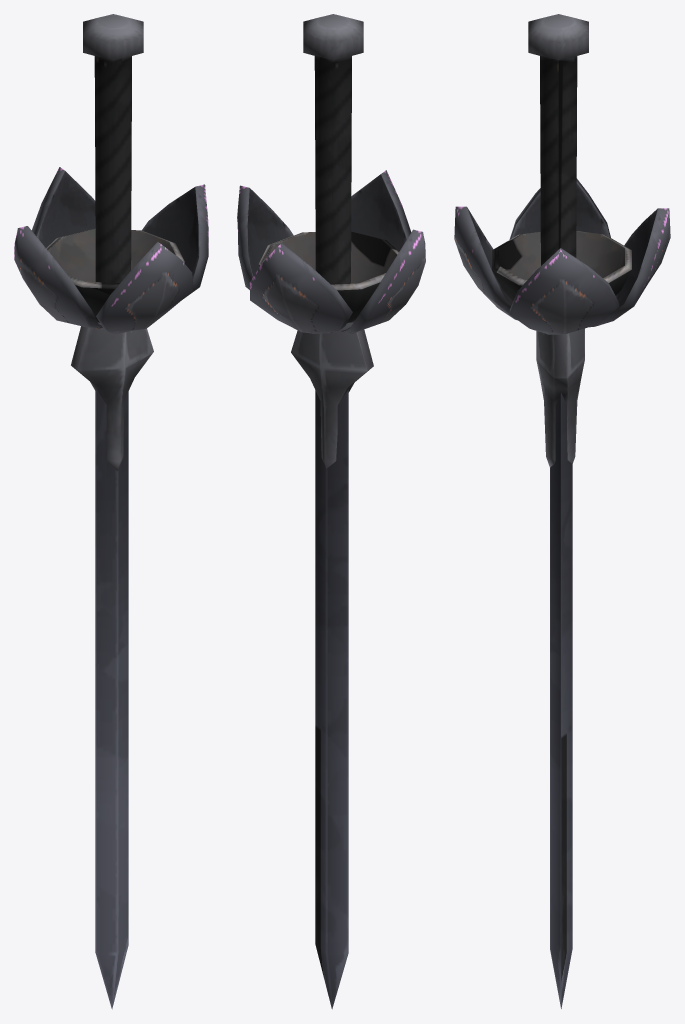
Rendered from SwordKnight.fbx.
3 views of the same model, side by side, from view 1: azimuth 30°, elevation 25°; view 2: azimuth 150°, elevation 25°; view 3: azimuth 270°, elevation 25° (orthographic).
Visible parts, largest first — view 1: SwordKnight; view 2: SwordKnight; view 3: SwordKnight.
Part boxes in pixels (x1,y1,x2,y2): SwordKnight: (14, 14, 208, 1009); SwordKnight: (237, 14, 425, 1009); SwordKnight: (454, 14, 670, 1008).
Size of the model in its own units: 0.3745 by 0.3745 by 1.89.
